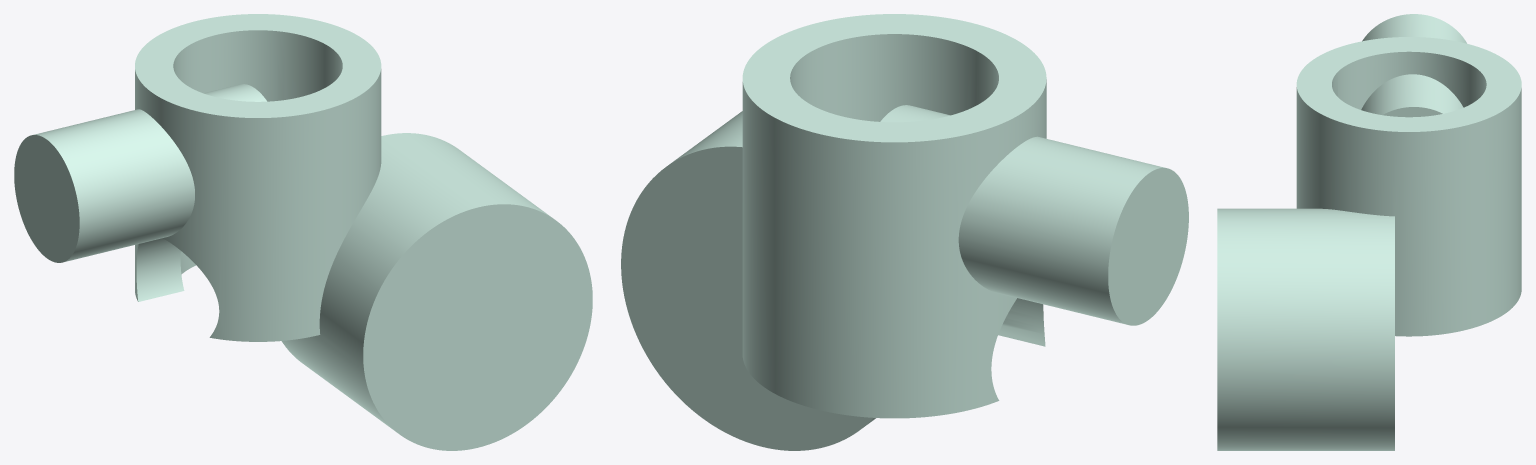
3 renders of one model, left to right at view 1: azimuth 30°, elevation 25°; view 2: azimuth 150°, elevation 25°; view 3: azimuth 270°, elevation 25°, orthographic. The views are drawn at different scales.
Visible parts, largest first — view 1: Renderer Node; view 2: Renderer Node; view 3: Renderer Node.
Part boxes in pixels (box(x1,y1,x2,y2)): Renderer Node: box(14, 14, 592, 450); Renderer Node: box(621, 14, 1188, 450); Renderer Node: box(1217, 14, 1521, 450).
Size of the model in its own units: 1.28 by 0.9293 by 0.8438.
